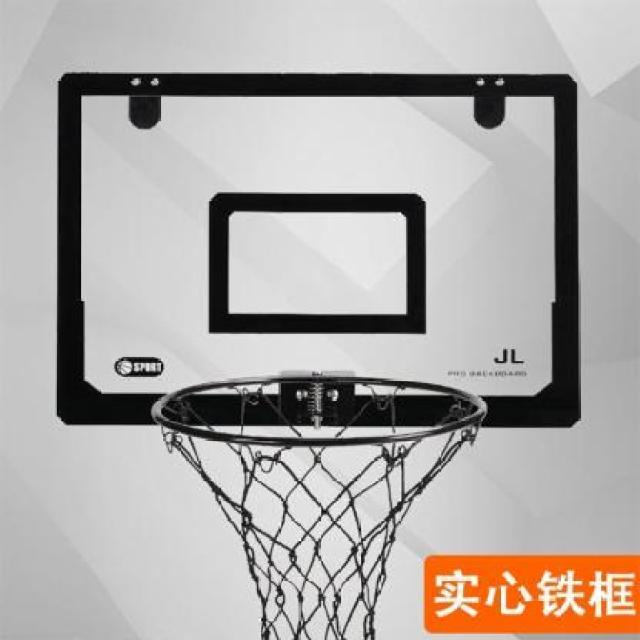rim: (156, 380, 488, 640)
